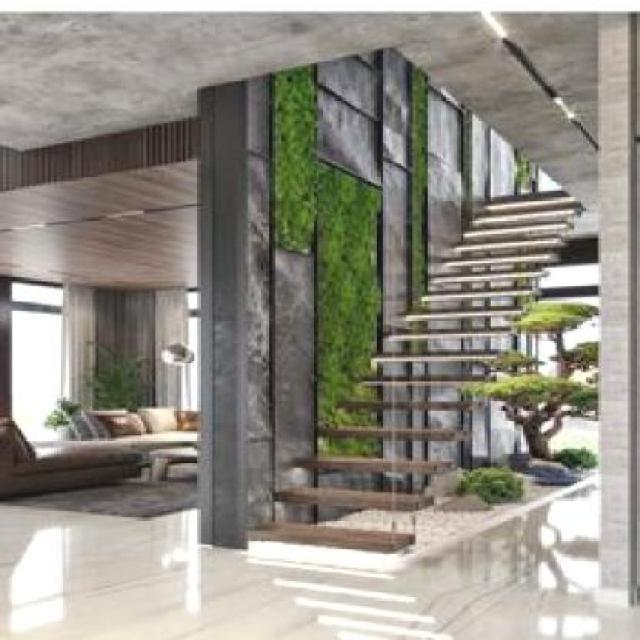stair: (234, 120, 632, 554)
